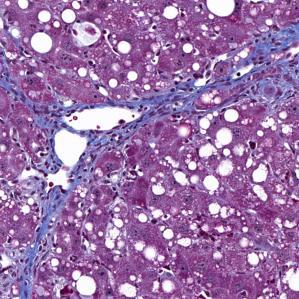fibrosis: (34, 103, 130, 176), (242, 33, 299, 110), (18, 209, 57, 271), (139, 91, 205, 118)
